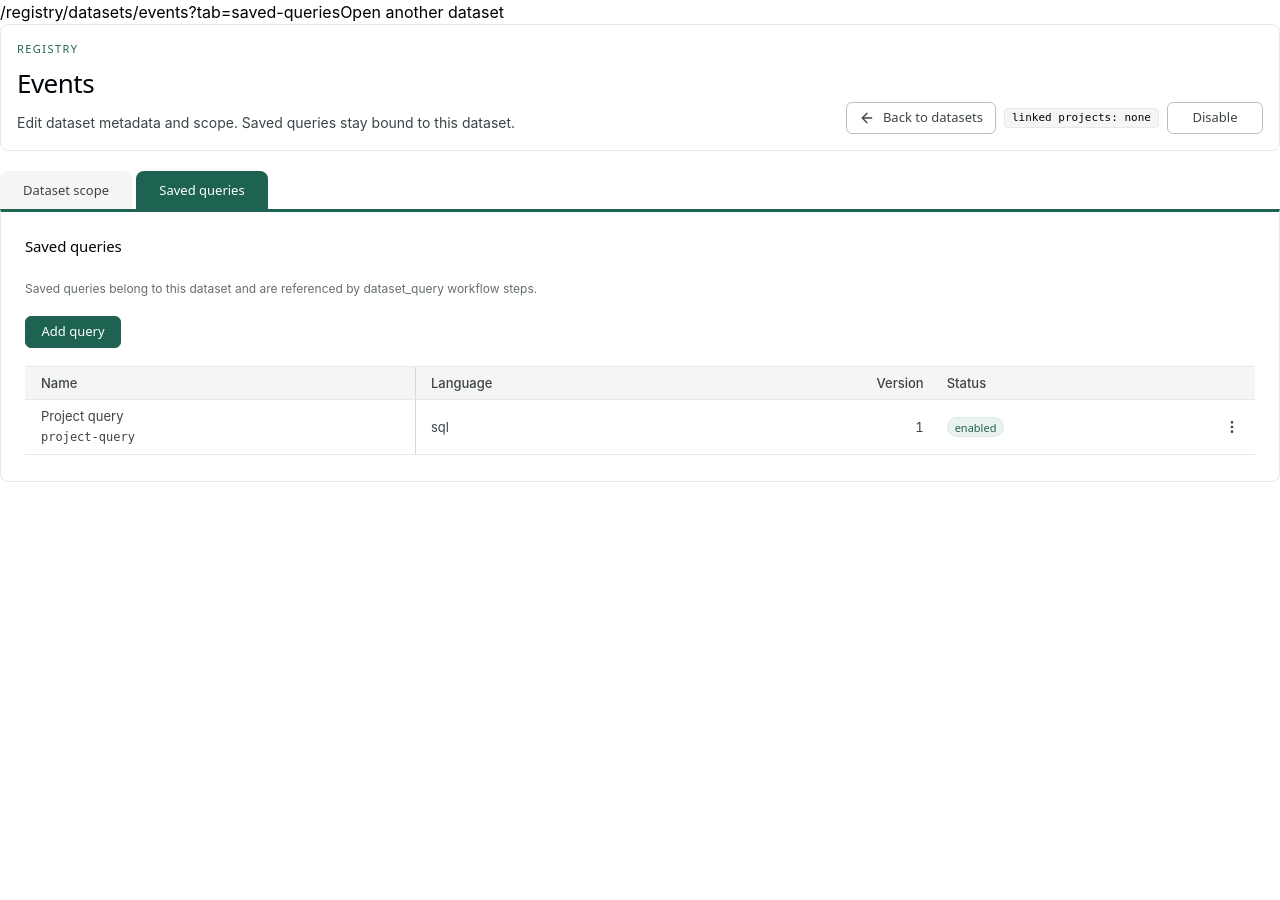
Test: RegistryDatasetsDetailPage saved queries › does not run a project-scoped query when the assigned project catalog is pending
The width and height of the screenshot is (1280, 900).
Check: the text "Project query" is shown, box left=41, top=408, right=124, bottom=424
Click the button named "Actions for Project query" at (1232, 427), box left=1216, top=411, right=1248, bottom=443
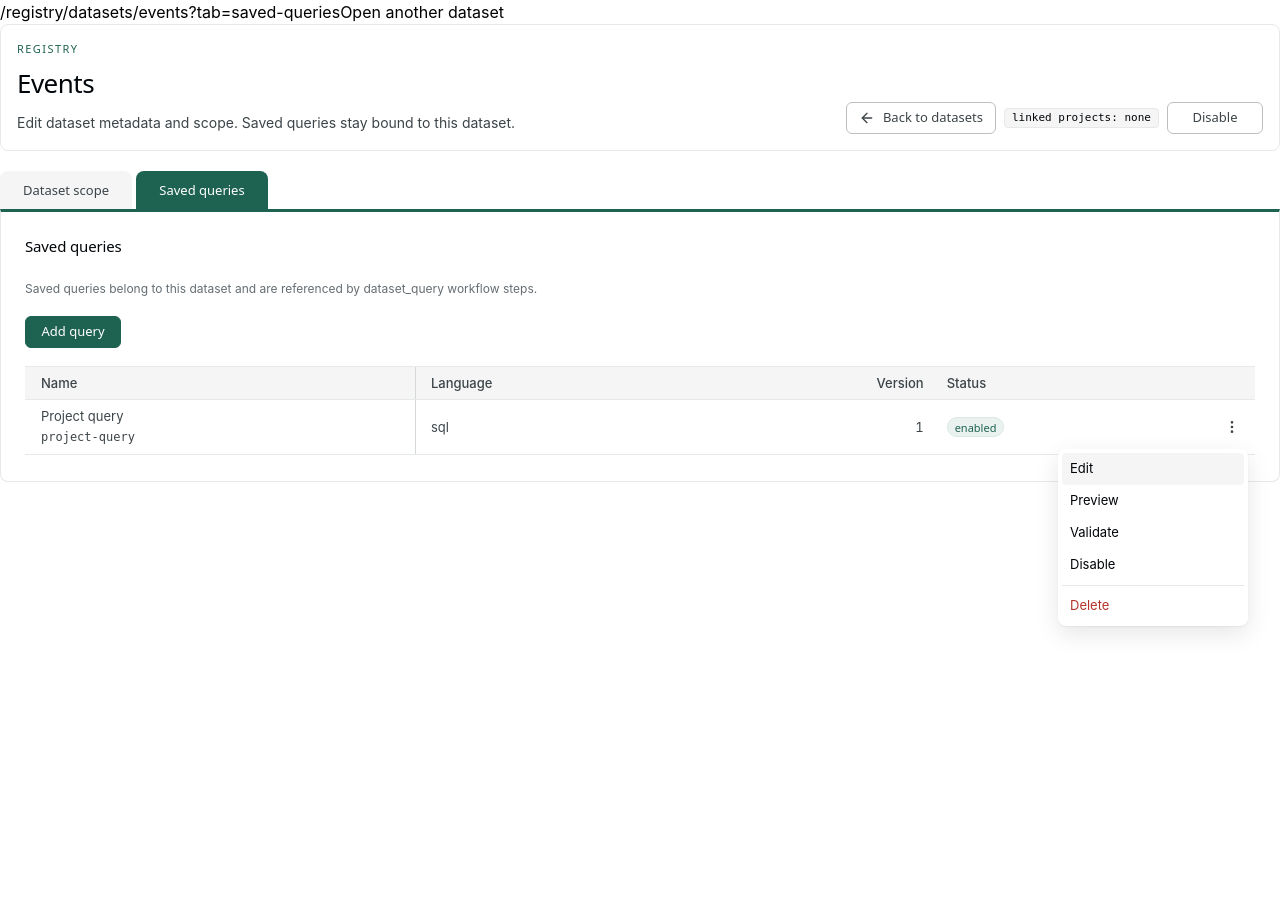
Click the menu item "Preview" at (1153, 501), box left=1062, top=485, right=1244, bottom=517
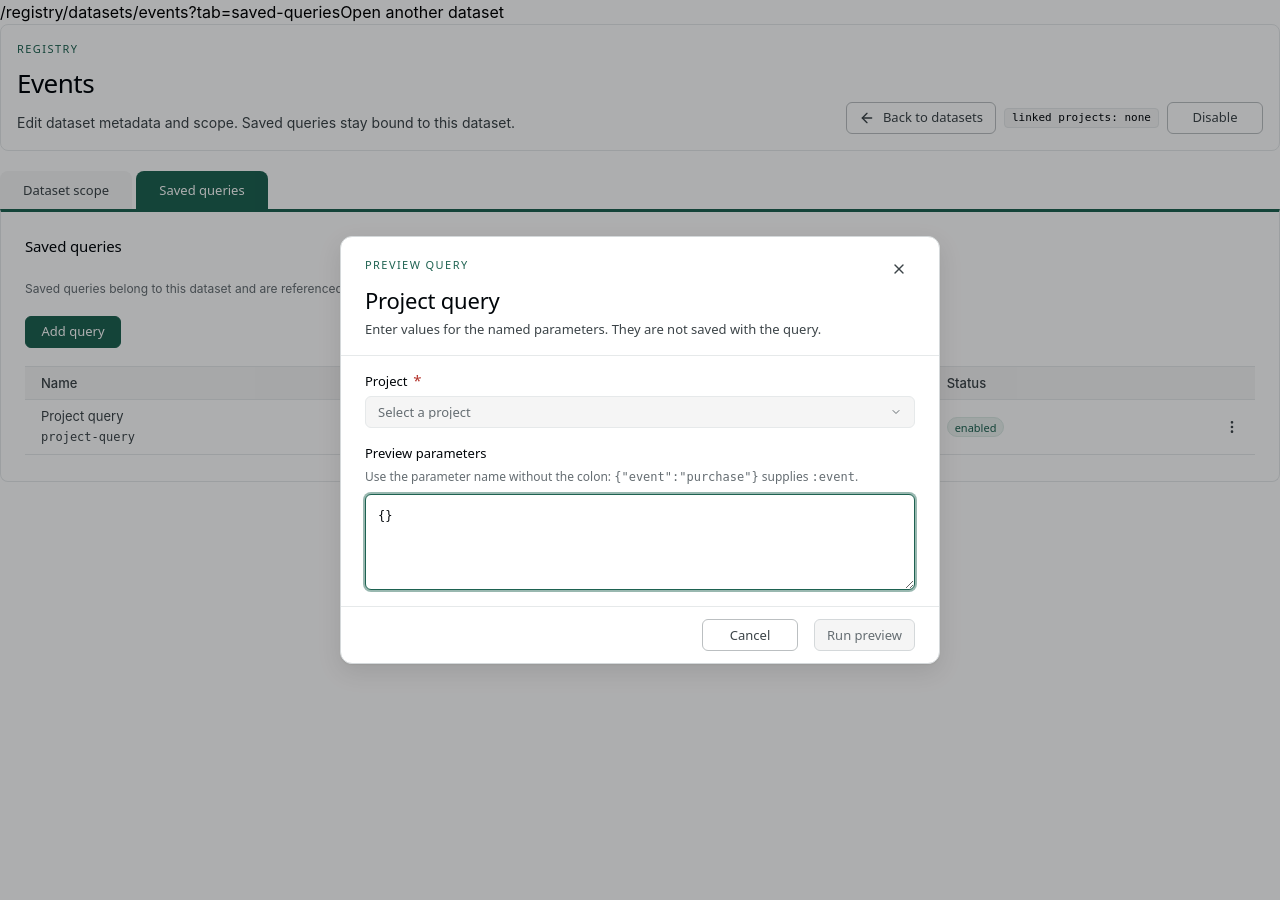
Check: the dropdown labelled "project" is disabled, box left=365, top=396, right=915, bottom=428
Check: the button "Run preview" is disabled, box left=814, top=619, right=915, bottom=651
